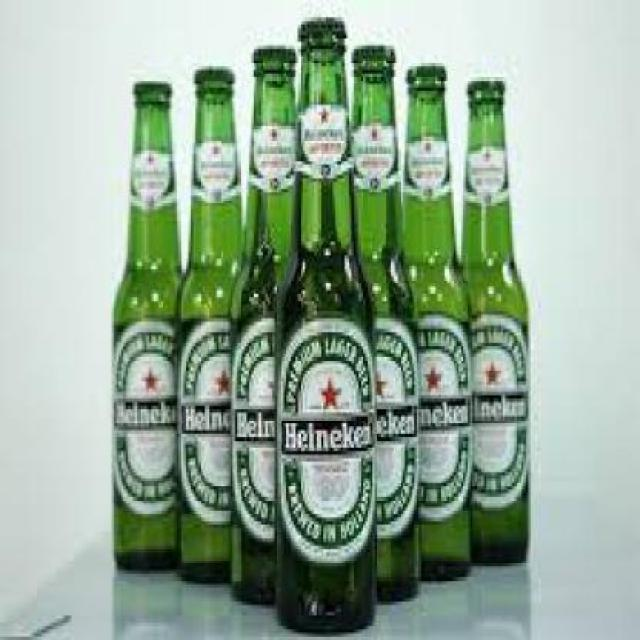kaca: (272, 28, 372, 634), (345, 53, 417, 602), (231, 53, 295, 602), (112, 91, 185, 566), (400, 77, 468, 577), (459, 85, 526, 563), (177, 77, 240, 580)
